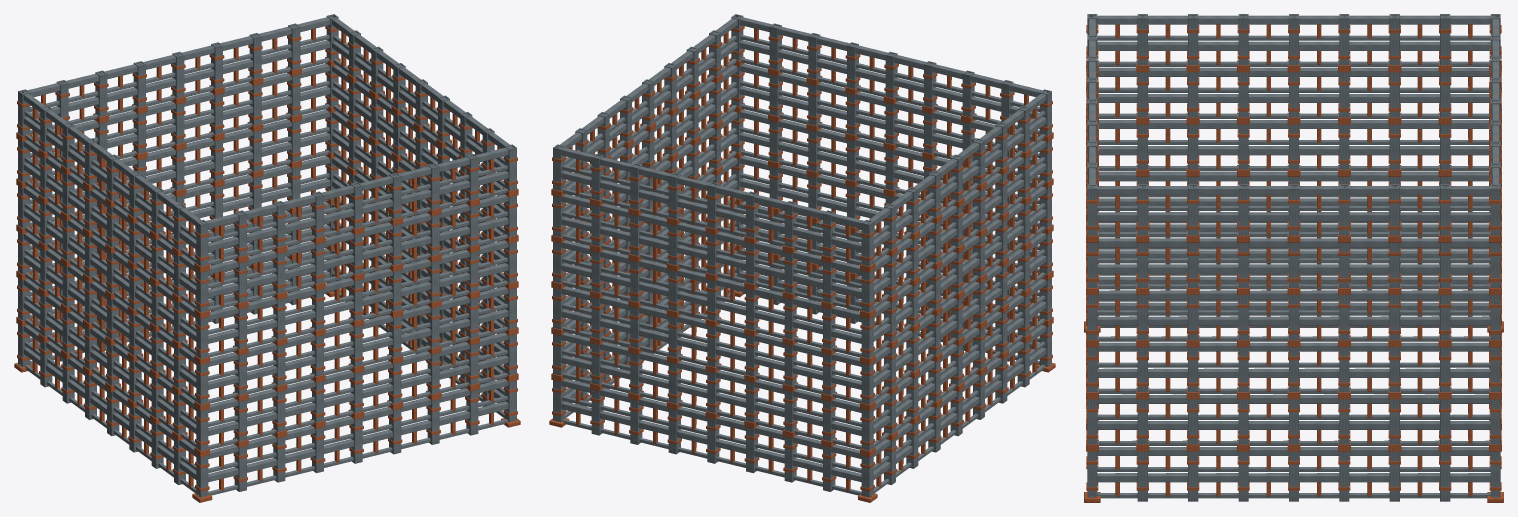
3 views of the same model, side by side, from view 1: azimuth 30°, elevation 25°; view 2: azimuth 150°, elevation 25°; view 3: azimuth 270°, elevation 25° (orthographic). The views are drawn at different scales.
Visible parts, largest first — view 1: no part large enough to name; view 2: no part large enough to name; view 3: Tier 5 side 1 post 1, Tier 5 side 1 post 6, Tier 5 side 1 post 2, Tier 5 side 1 post 7, Tier 5 side 1 post 3, Tier 5 side 1 post 5, Tier 0 side 1 post 1, Tier 0 side 1 post 2, Tier 0 side 1 post 3, Tier 0 side 1 post 5, Tier 0 side 1 post 6, Tier 0 side 1 post 7 (+8 smaller).
Boxes of the visible parts, left/top/right/bottom form: Tier 5 side 1 post 1: left=1137, top=184, right=1147, bottom=235; Tier 5 side 1 post 6: left=1389, top=184, right=1399, bottom=235; Tier 5 side 1 post 2: left=1188, top=184, right=1198, bottom=235; Tier 5 side 1 post 7: left=1440, top=184, right=1450, bottom=235; Tier 5 side 1 post 3: left=1238, top=184, right=1248, bottom=235; Tier 5 side 1 post 5: left=1339, top=184, right=1349, bottom=235; Tier 0 side 1 post 1: left=1137, top=451, right=1147, bottom=501; Tier 0 side 1 post 2: left=1188, top=451, right=1198, bottom=501; Tier 0 side 1 post 3: left=1238, top=451, right=1248, bottom=501; Tier 0 side 1 post 5: left=1339, top=451, right=1349, bottom=501; Tier 0 side 1 post 6: left=1389, top=451, right=1399, bottom=501; Tier 0 side 1 post 7: left=1440, top=451, right=1450, bottom=501.
Bounding box in the file's own units: 3.75 × 3.09 × 3.75.
Materials: 2 (2 with a texture image).
